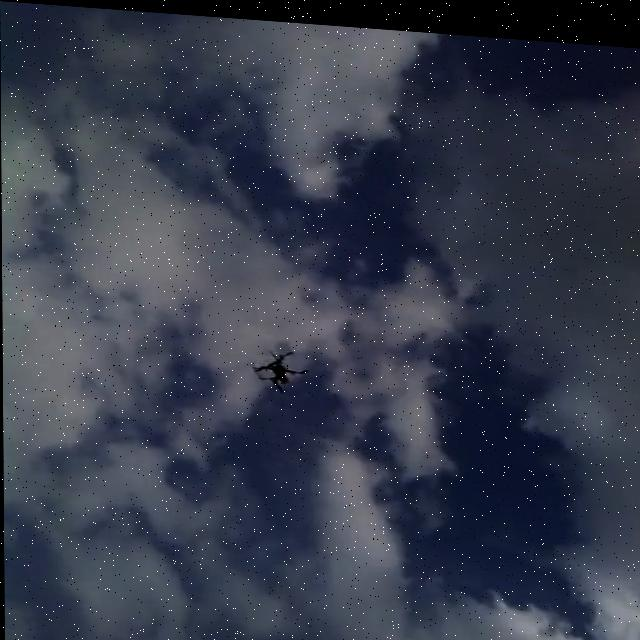drone: (253, 340, 311, 392)
